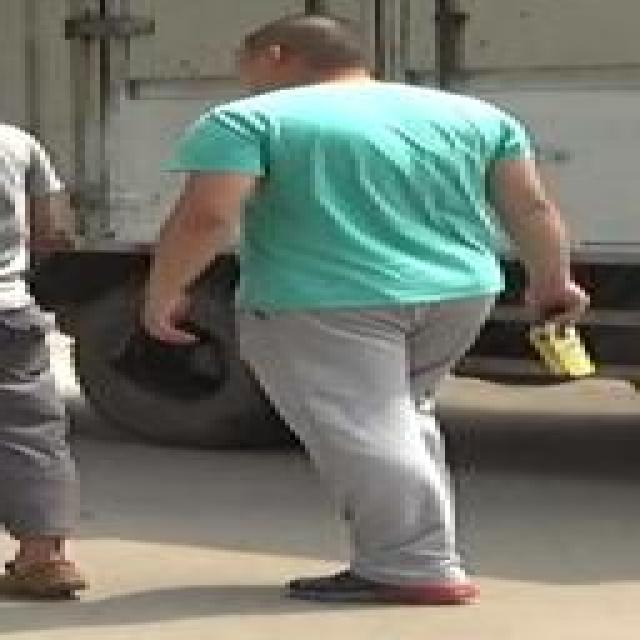adult: (134, 24, 605, 594)
